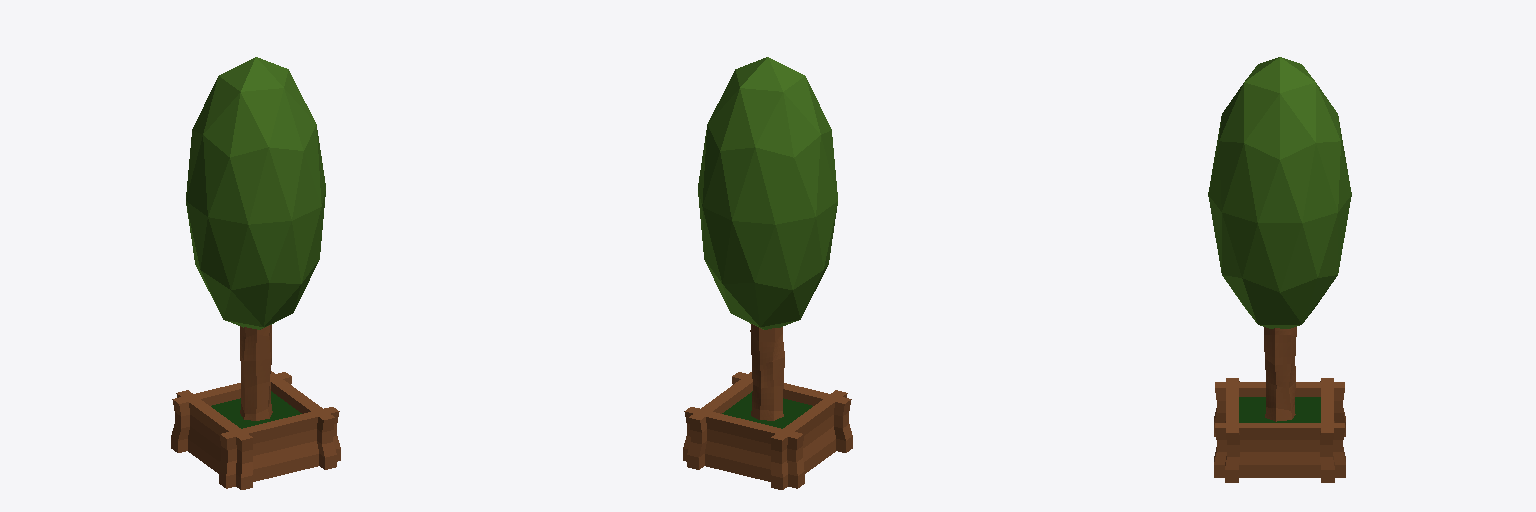
3 views of the same model, side by side, from view 1: azimuth 30°, elevation 25°; view 2: azimuth 150°, elevation 25°; view 3: azimuth 270°, elevation 25° (orthographic).
Parts seen in each view (by area): view 1: drzewo.003; view 2: drzewo.003; view 3: drzewo.003.
Part boxes in pixels (left/top/right/bottom): drzewo.003: left=171, top=57, right=340, bottom=489; drzewo.003: left=683, top=57, right=852, bottom=489; drzewo.003: left=1208, top=57, right=1351, bottom=482.
Size of the model in its own units: 2.52 by 8.1 by 2.65.
1 materials, 1 textured.